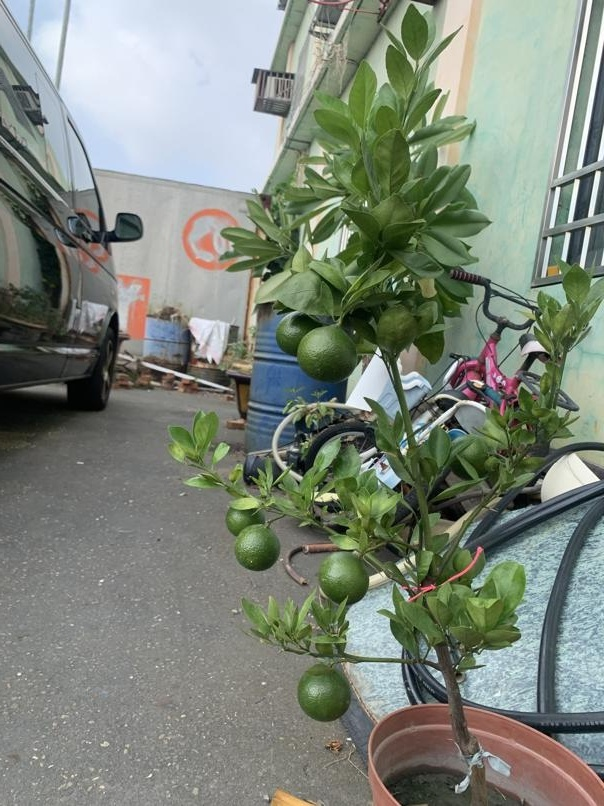Tangerine: (298, 319, 359, 385), (294, 660, 354, 722), (318, 551, 371, 610), (230, 520, 283, 572)
